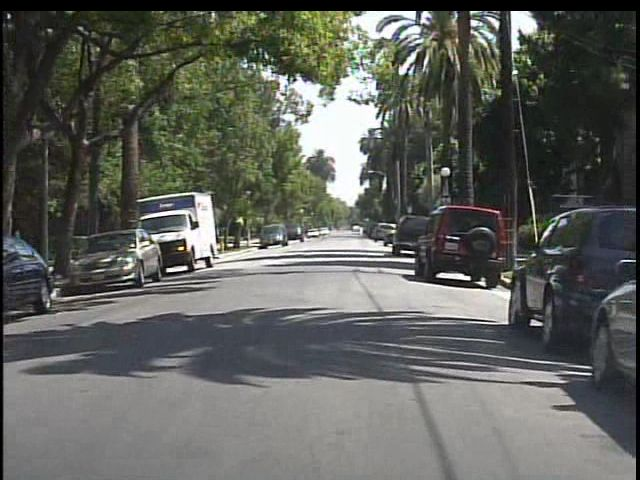car: (509, 198, 615, 345), (417, 201, 513, 287), (595, 219, 640, 396), (1, 231, 58, 314), (144, 207, 218, 268), (76, 228, 150, 289), (254, 221, 285, 247)
strada: (47, 239, 550, 475)
